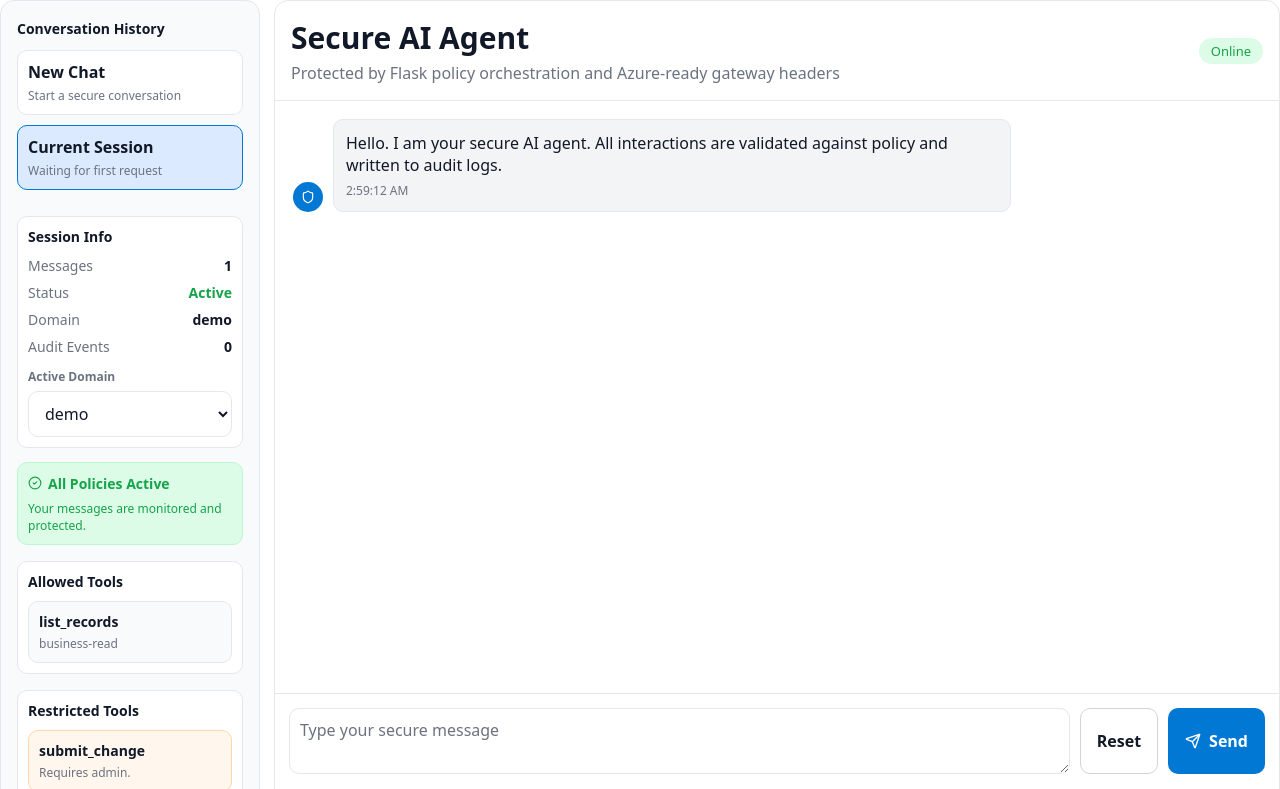
ChatPage › loads tools and sends a successful chat request
Expected: the text "list_records" is shown, [39, 612, 118, 631]
In the text box with placeholder "Type your secure message": (679, 741) [289, 708, 1070, 774], type "List demo records"
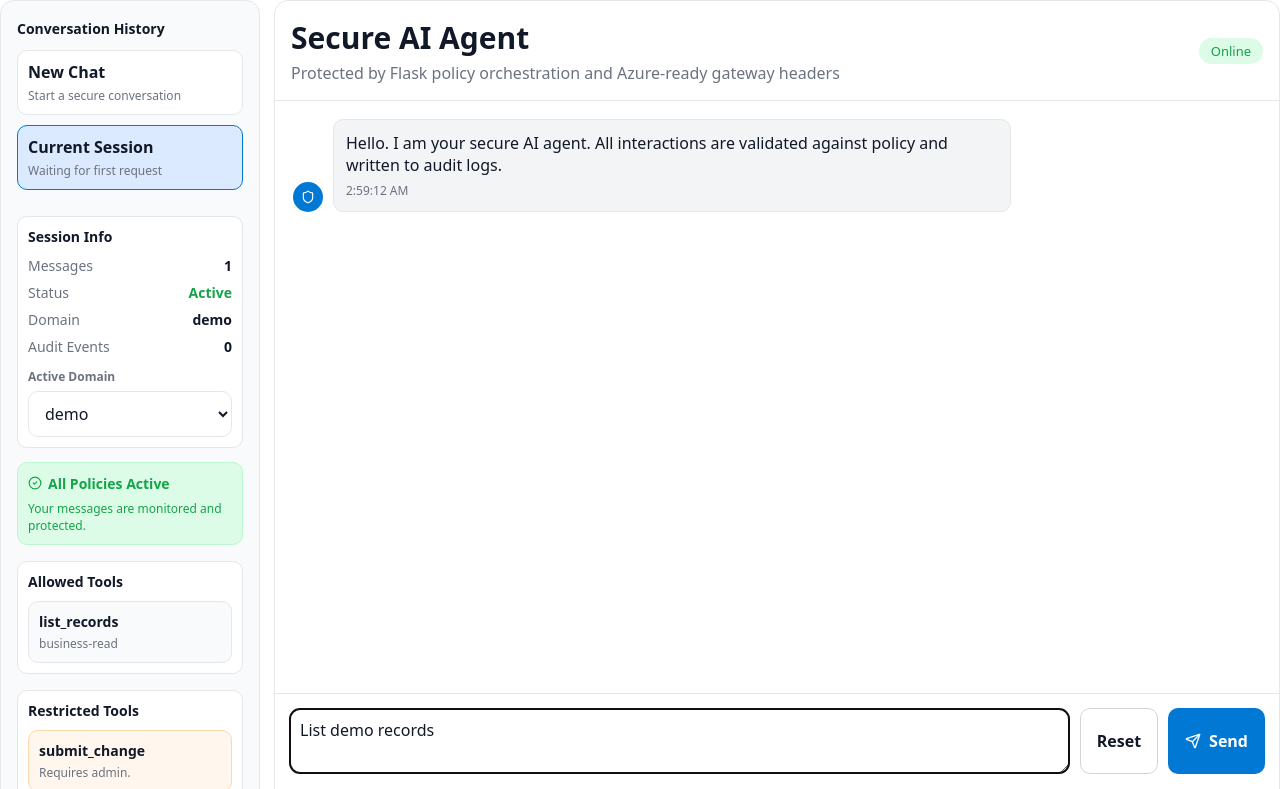
Click the button "Send": (1217, 741) [1168, 708, 1265, 774]
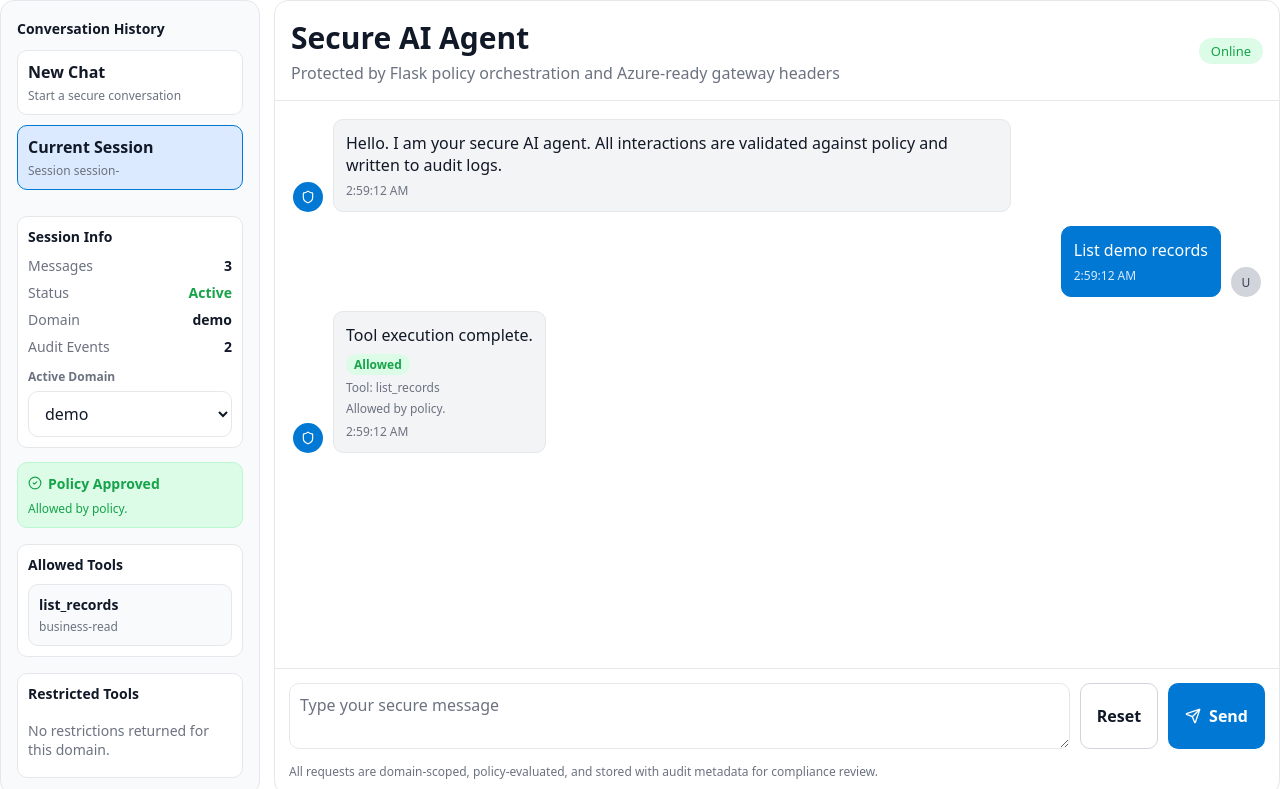
Now the text "Tool execution complete." is shown, box [346, 324, 533, 346]
Now the text "Session session-" is shown, box [28, 162, 119, 179]
Now the text "2" is shown, box [224, 337, 232, 356]
